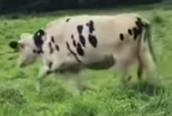cow: (9, 13, 158, 97)
